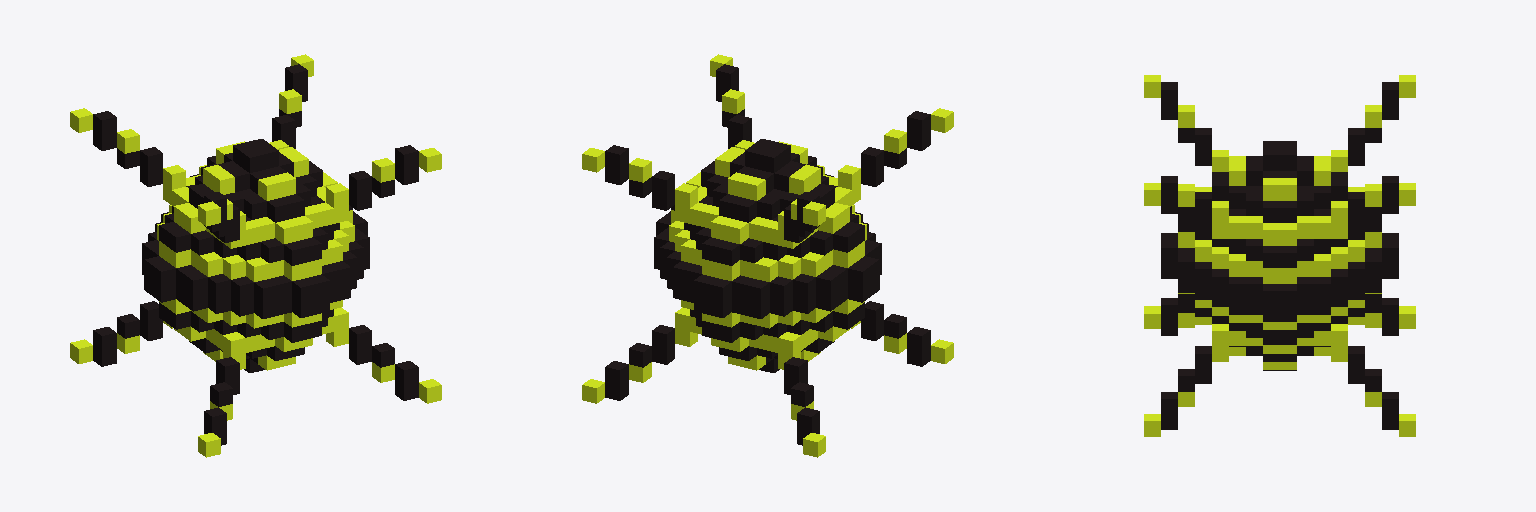
3 views of the same model, side by side, from view 1: azimuth 30°, elevation 25°; view 2: azimuth 150°, elevation 25°; view 3: azimuth 270°, elevation 25° (orthographic).
Parts seen in each view (by area): view 1: Model; view 2: Model; view 3: Model.
Boxes of the visible parts, <box> form: Model: <box>70,54,441,457</box>; Model: <box>582,54,953,457</box>; Model: <box>1144,75,1415,436</box>.
Bounding box in the file's own units: 32 × 32 × 32.
Materials: 1 (1 with a texture image).